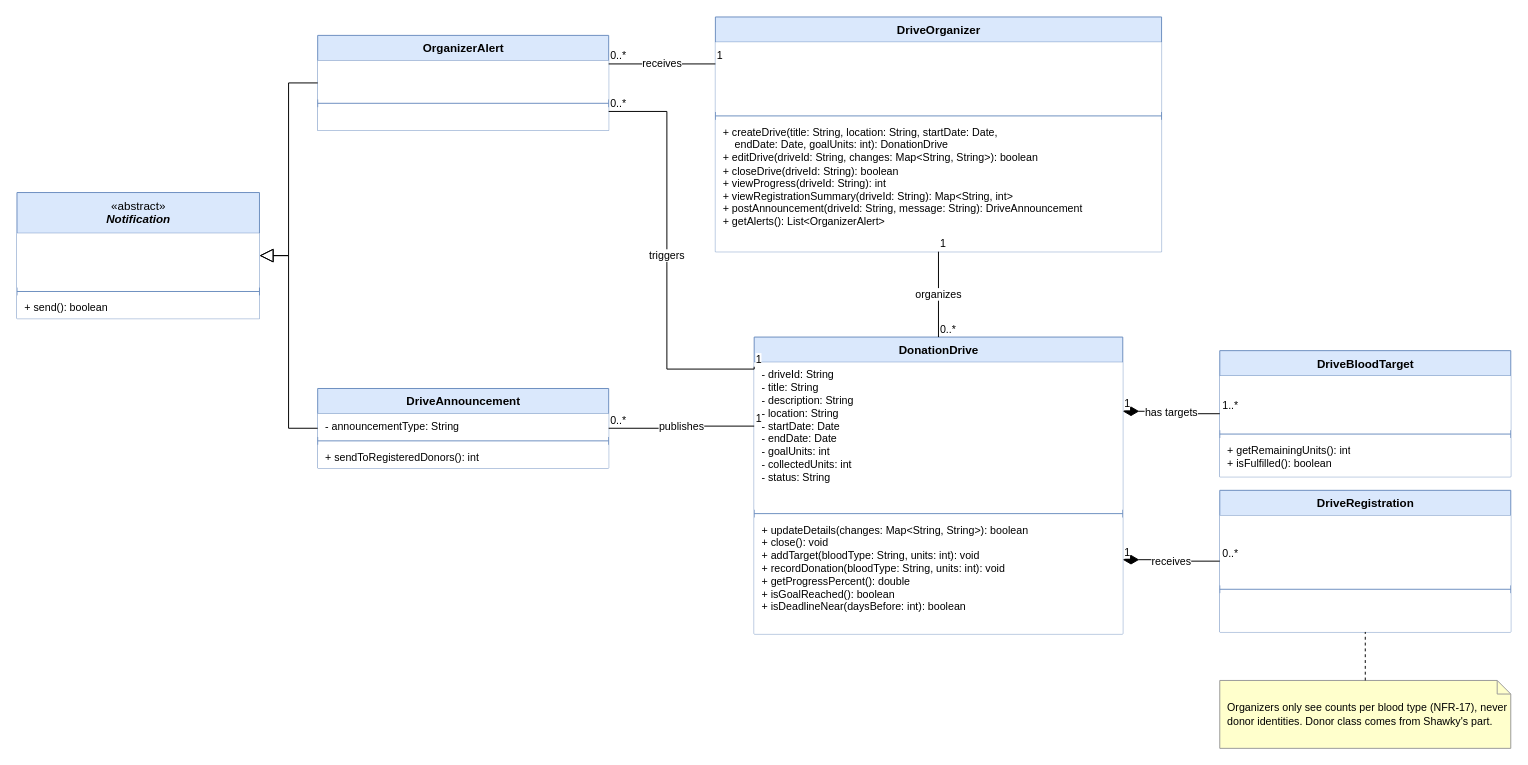
The diagram is 1528 pixels wide and 765 high, and some of its shapes have lost their labels. Here are the shapes that lost their labels. From the top down, the centre of each, then its label:
(462,79): - alertType: String - isRead: boolean
(938,77): - organizerId: String - name: String - email: String - organizationName: String
(462,118): + markAsRead(): void
(137,260): # notificationId: String # message: String # createdAt: Date
(1364,402): - bloodType: String - targetUnits: int - collectedUnits: int
(1364,550): - registrationId: String - donorId: String - registeredAt: Date - status: String
(1364,612): + cancel(): void + markAttended(): void
